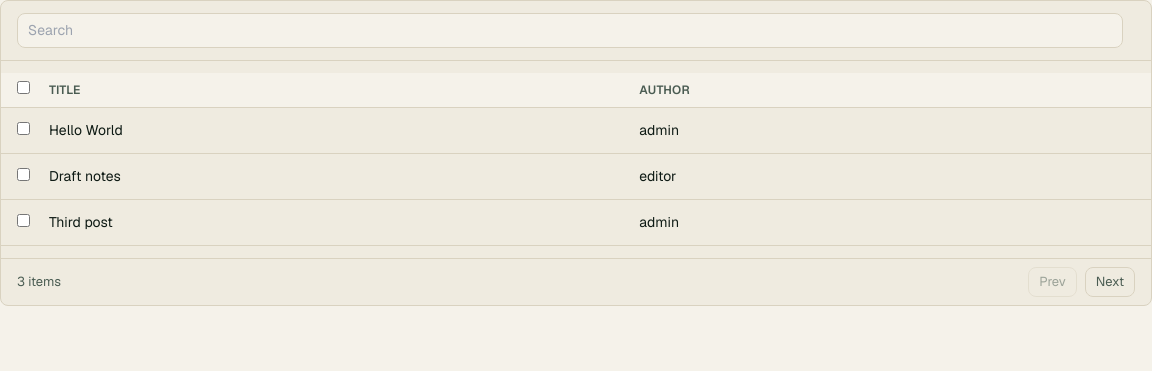
Test: ResourceList › toggles all rows on then off via the select-all checkbox
First click → all rows selected.
Click the checkbox with test id "resource-list-select-all" at (24, 88), box [17, 81, 30, 94]
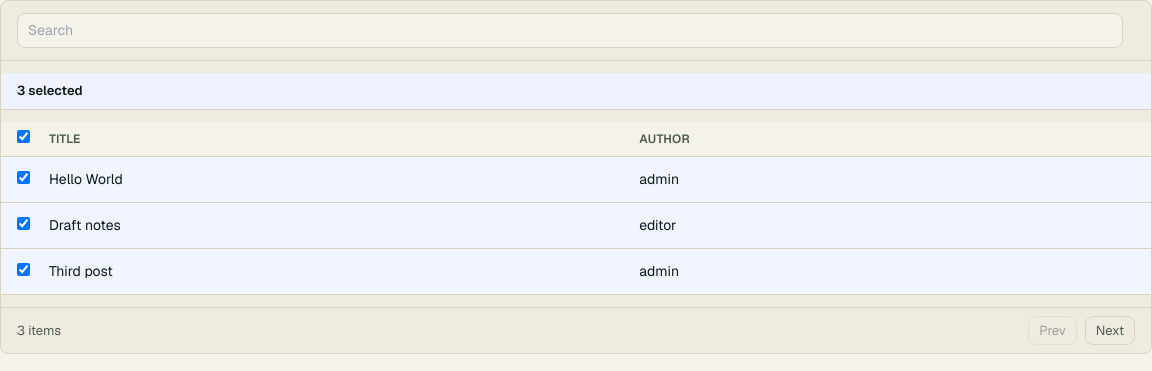
Expected: the row with test id "resource-row-1" is selected, [1, 156, 1151, 202]
Expected: the row with test id "resource-row-2" is selected, [1, 202, 1151, 248]
Expected: the checkbox with test id "resource-list-select-all" is checked
Second click → all rows deselected, and the bulk bar disappears.
Click the checkbox with test id "resource-list-select-all" at (24, 136), box [17, 130, 30, 142]
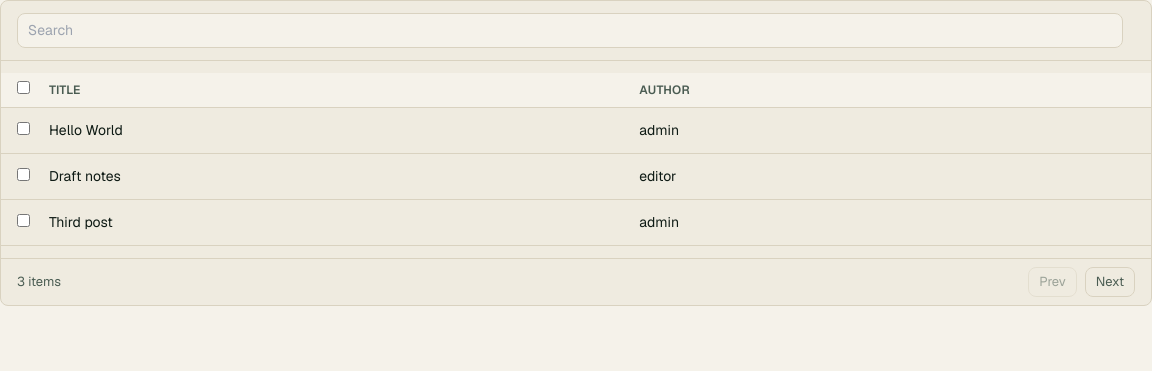
Expected: the checkbox with test id "resource-list-select-all" is not checked, [17, 81, 30, 94]
Expected: the text with test id "bulk-selected-count" is gone
